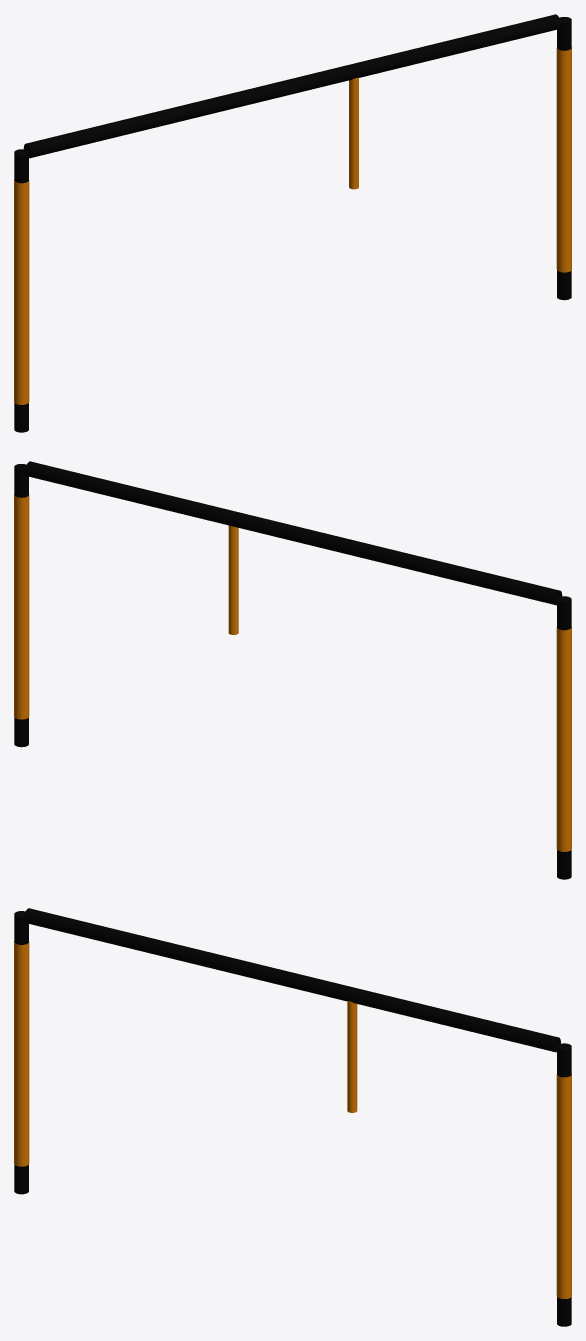
Rendered from StartGate.dae.
3 views of the same model, one above another, from view 1: azimuth 30°, elevation 25°; view 2: azimuth 150°, elevation 25°; view 3: azimuth 330°, elevation 25° (orthographic).
Parts seen in each view (by area): view 1: gate_top_left, gate_right_orange, gate_left_orange, gate_middle_pole, gate_left_black, gate_right_black; view 2: gate_top_left, gate_right_orange, gate_left_orange, gate_middle_pole, gate_left_black, gate_right_black; view 3: gate_top_left, gate_left_orange, gate_right_orange, gate_middle_pole, gate_right_black, gate_left_black.
Part boxes in pixels (<box>): gate_top_left: <box>23,14,560,158</box>; gate_right_orange: <box>556,47,571,272</box>; gate_left_orange: <box>14,180,29,404</box>; gate_middle_pole: <box>349,77,358,189</box>; gate_left_black: <box>14,149,28,432</box>; gate_right_black: <box>557,17,571,300</box>; gate_top_left: <box>25,461,562,605</box>; gate_right_orange: <box>14,494,29,719</box>; gate_left_orange: <box>556,627,571,851</box>; gate_middle_pole: <box>228,525,238,634</box>; gate_left_black: <box>557,596,571,879</box>; gate_right_black: <box>14,464,28,747</box>; gate_top_left: <box>23,908,560,1052</box>; gate_left_orange: <box>14,941,29,1166</box>; gate_right_orange: <box>556,1074,571,1298</box>; gate_middle_pole: <box>347,1001,357,1112</box>; gate_right_black: <box>557,1043,571,1326</box>; gate_left_black: <box>14,911,28,1194</box>.
Bounding box in the file's own units: 3.2 × 0.0762 × 1.56.
